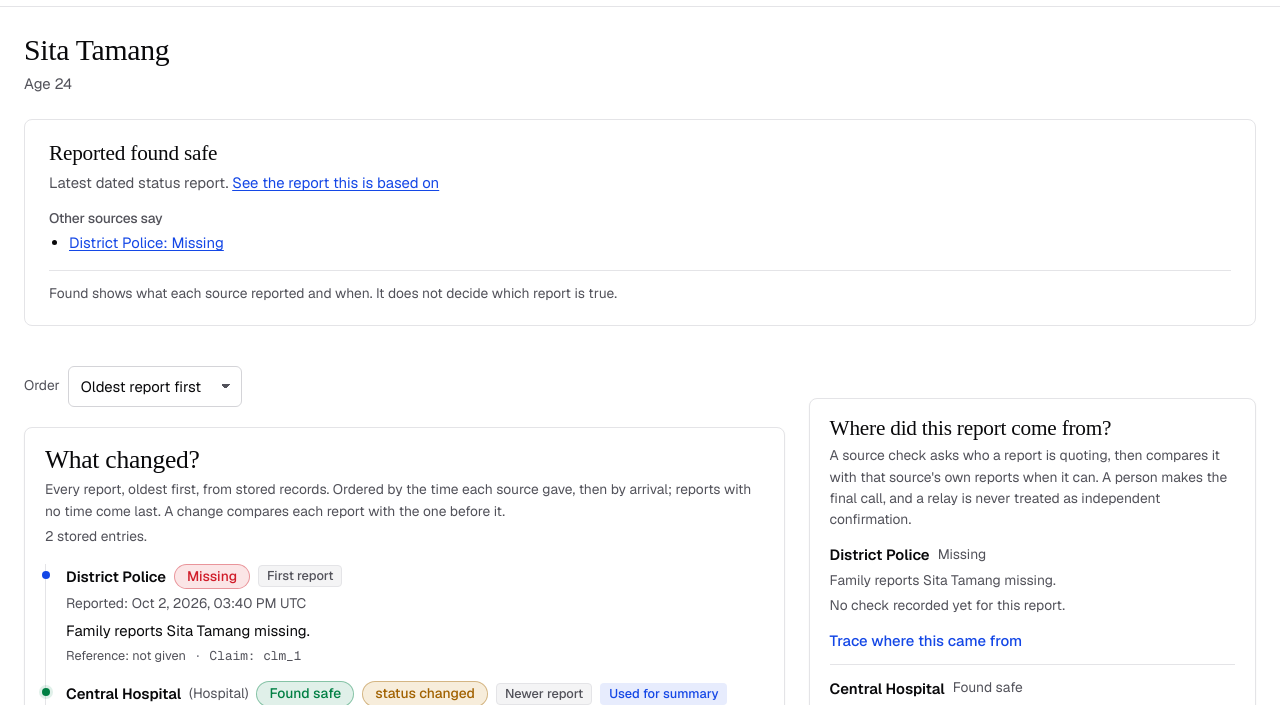
Test: person page › switches order and pages through the timeline
Select "Newest report first" in the dropdown labelled "Order" at (155, 386), box [68, 366, 242, 407]
(page scrolled)
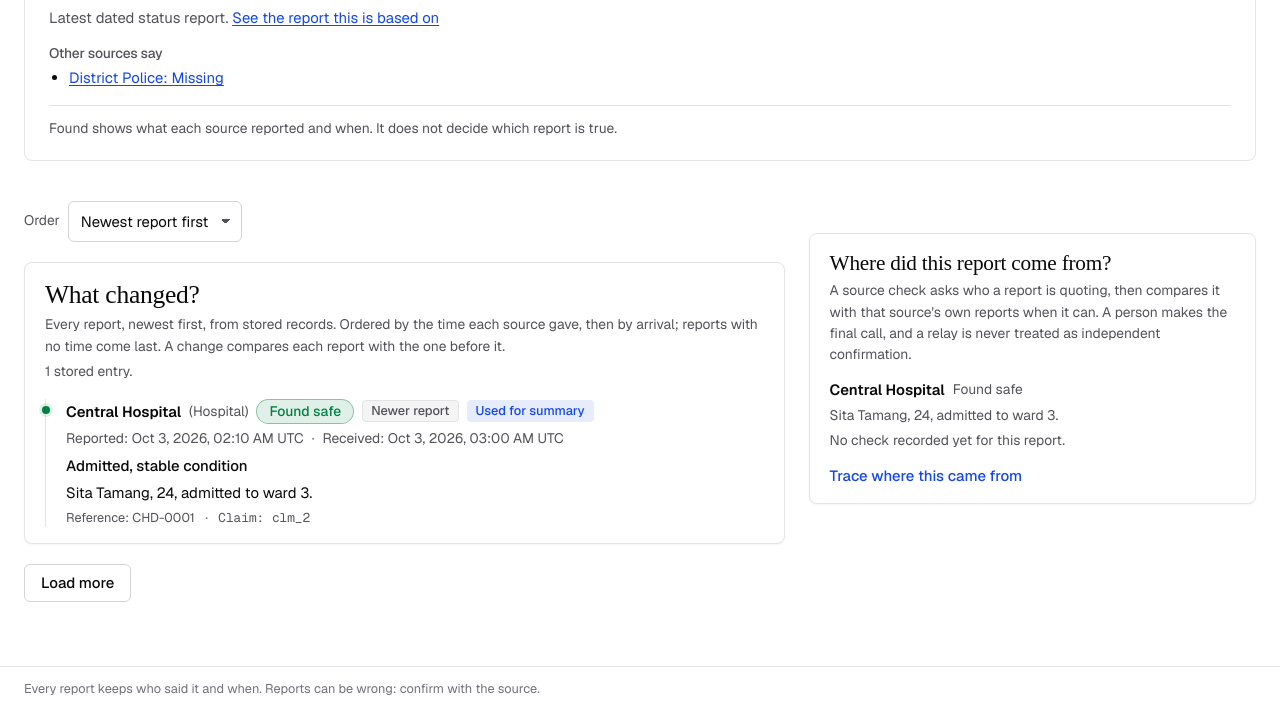
Click the button "Load more" at (78, 583), box [24, 564, 131, 602]
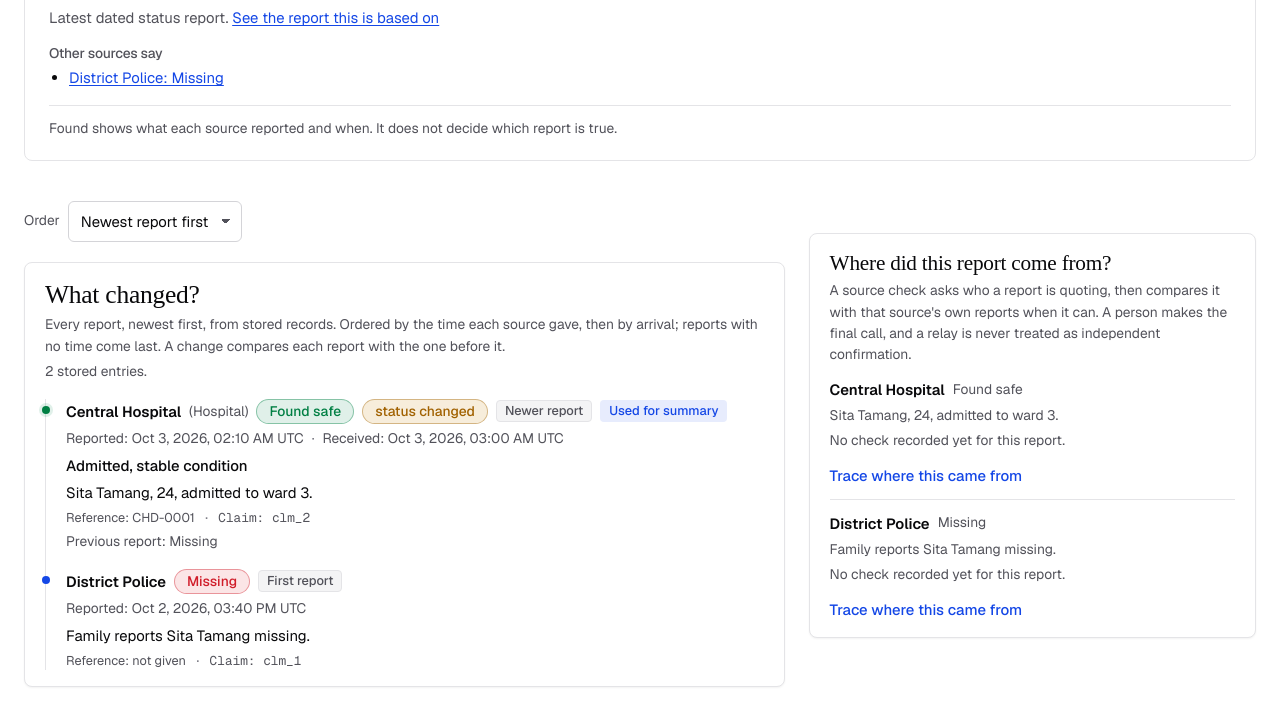
expect the button "Load more" is gone: met
